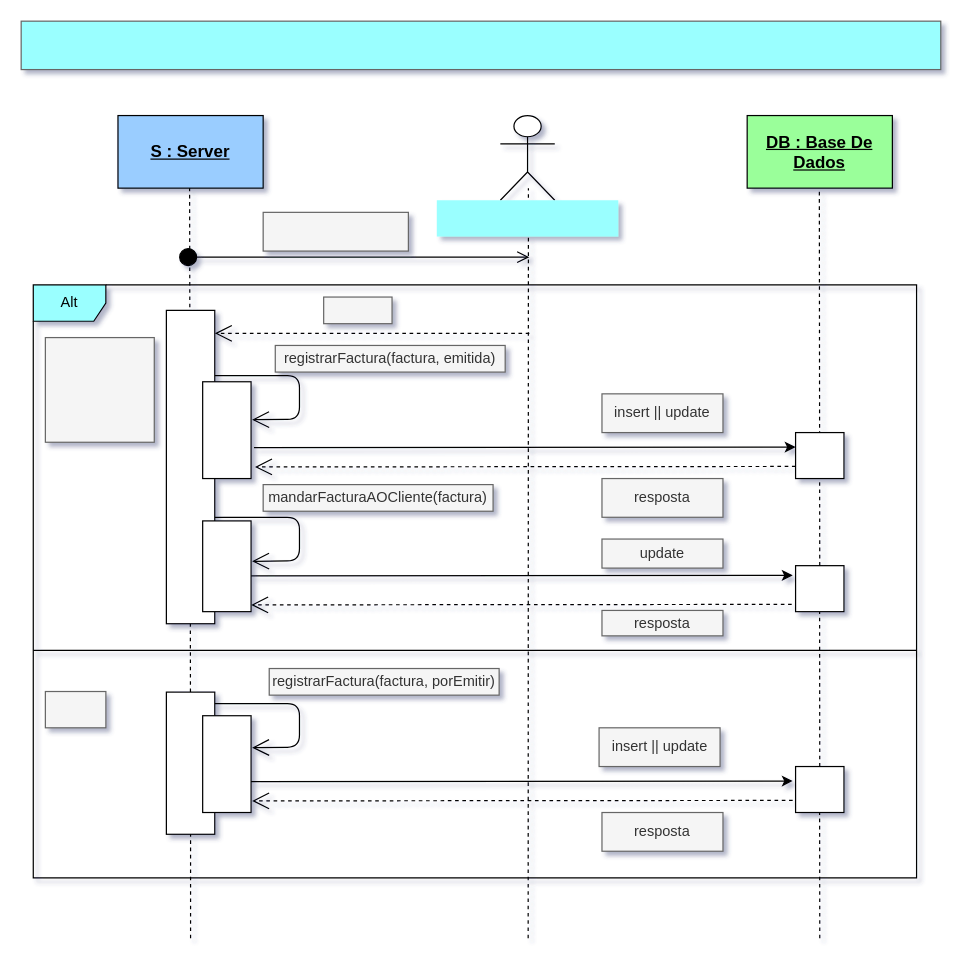
Some shapes in this 969 by 968 pixel diagram are drawn without their labels. Here are the shapes that lost their labels. From the top down, the centre of each, then its label:
point 480,45: PROCESSO DE FACTURAÇÃO
point 335,231: facturar(consulta)
point 527,218: Sistema De Facturaçao
point 357,310: factura
point 99,389: [Tempo De Resposta Do Sistema De Factoração <=60s]
point 75,709: else
